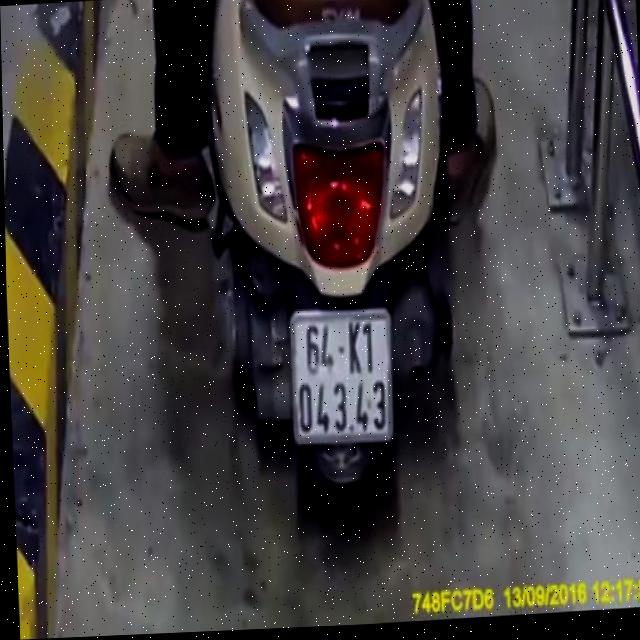motorcycle: (191, 0, 476, 542)
plate: (284, 300, 402, 452)
